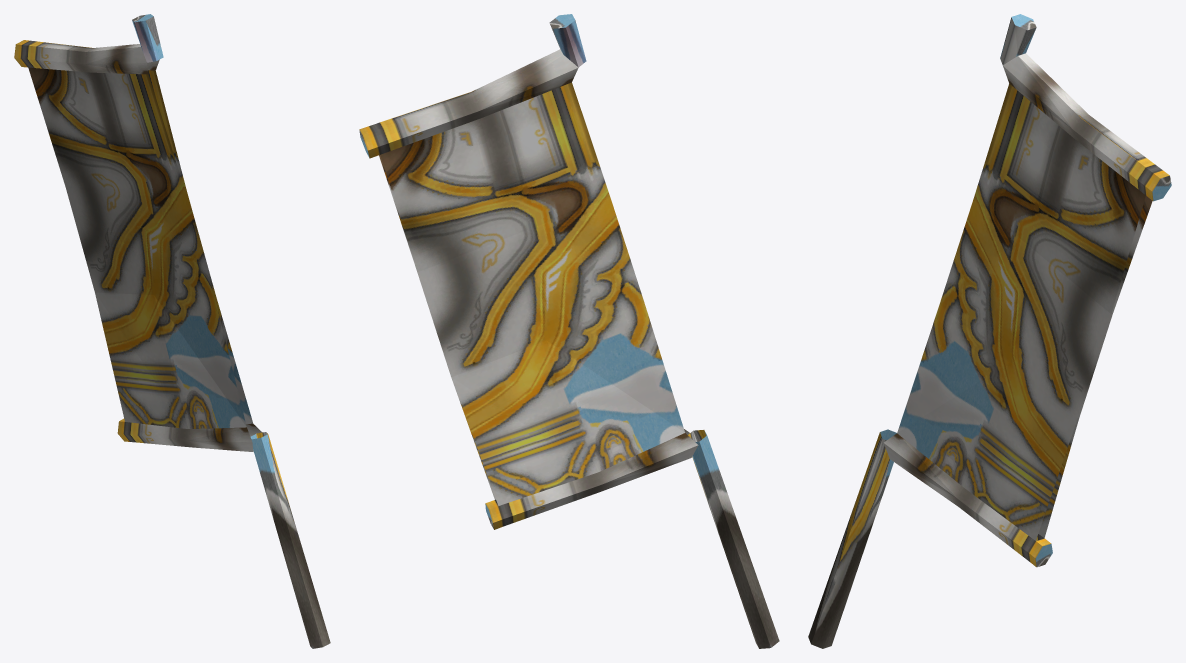
File: Penguin_championFlag.obj
The picture shows the model from 3 angles, left to right: view 1: azimuth 90°, elevation 25°; view 2: azimuth 150°, elevation 25°; view 3: azimuth 270°, elevation 25°; orthographic projection. The views are drawn at different scales.
Parts seen in each view (by area): view 1: Penguin_championFlag_tri; view 2: Penguin_championFlag_tri; view 3: Penguin_championFlag_tri.
Boxes of the visible parts, bbox=[...] form: Penguin_championFlag_tri: bbox=[14, 14, 330, 648]; Penguin_championFlag_tri: bbox=[359, 14, 779, 648]; Penguin_championFlag_tri: bbox=[808, 14, 1171, 648].
Size of the model in its own units: 0.51 by 1.31 by 0.6393.
1 material, 1 textured.
